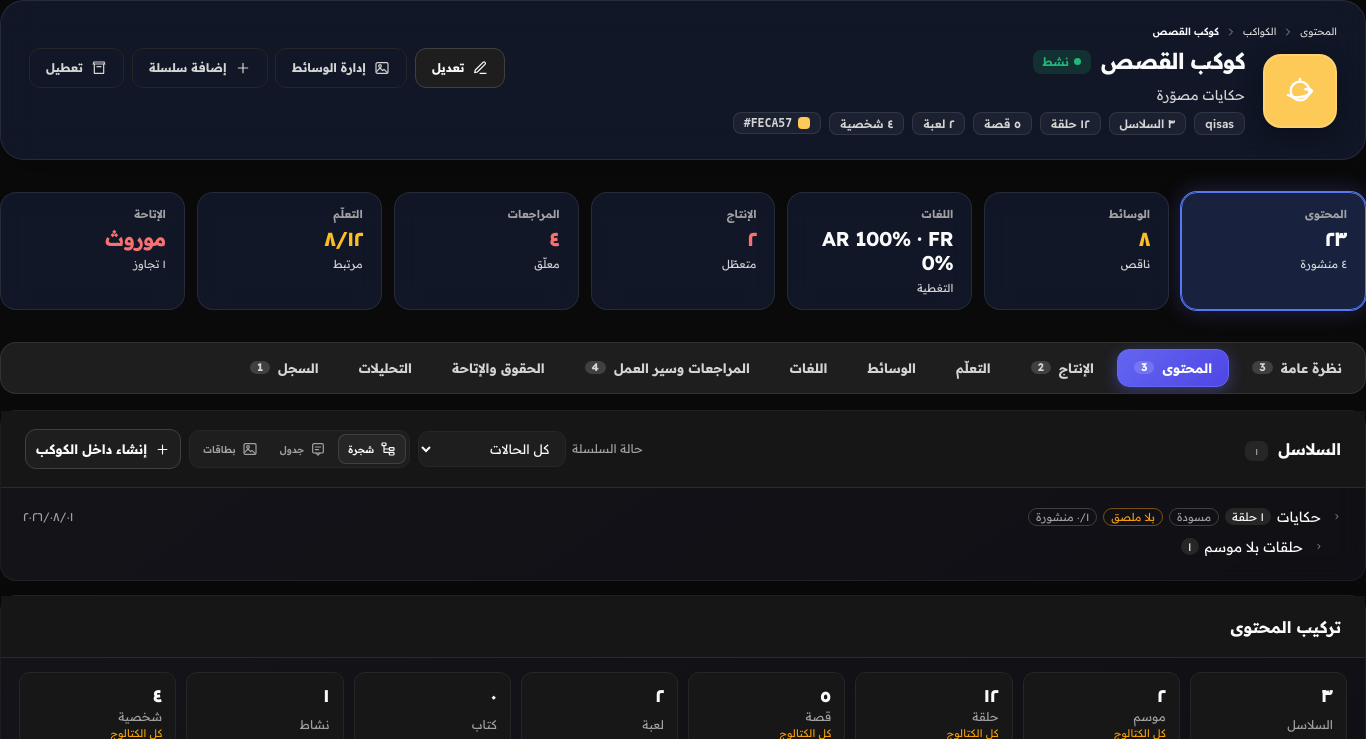
Test case: PlanetWorkspacePage › a tree row carries the readiness signals the payload already knows
Check: the text "بلا ملصق" is shown, box 1103,508 -> 1163,526
Click the button named "توسيع: حلقات بلا موسم" at (1319, 547), box 1309,537 -> 1329,557
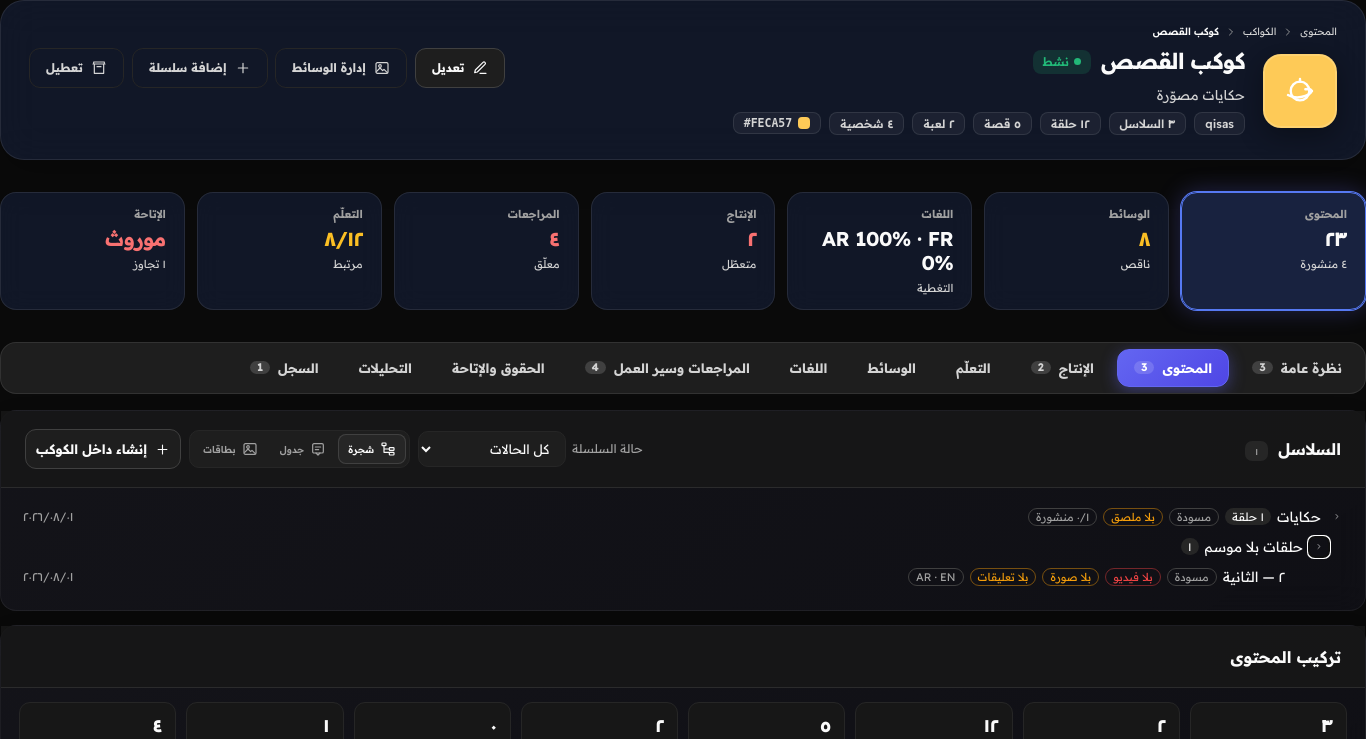
Check: the text "بلا فيديو" is shown, box 1105,568 -> 1161,586
Check: the text "بلا صورة" is shown, box 1042,568 -> 1099,586
Check: the text "بلا تعليقات" is shown, box 970,568 -> 1036,586
